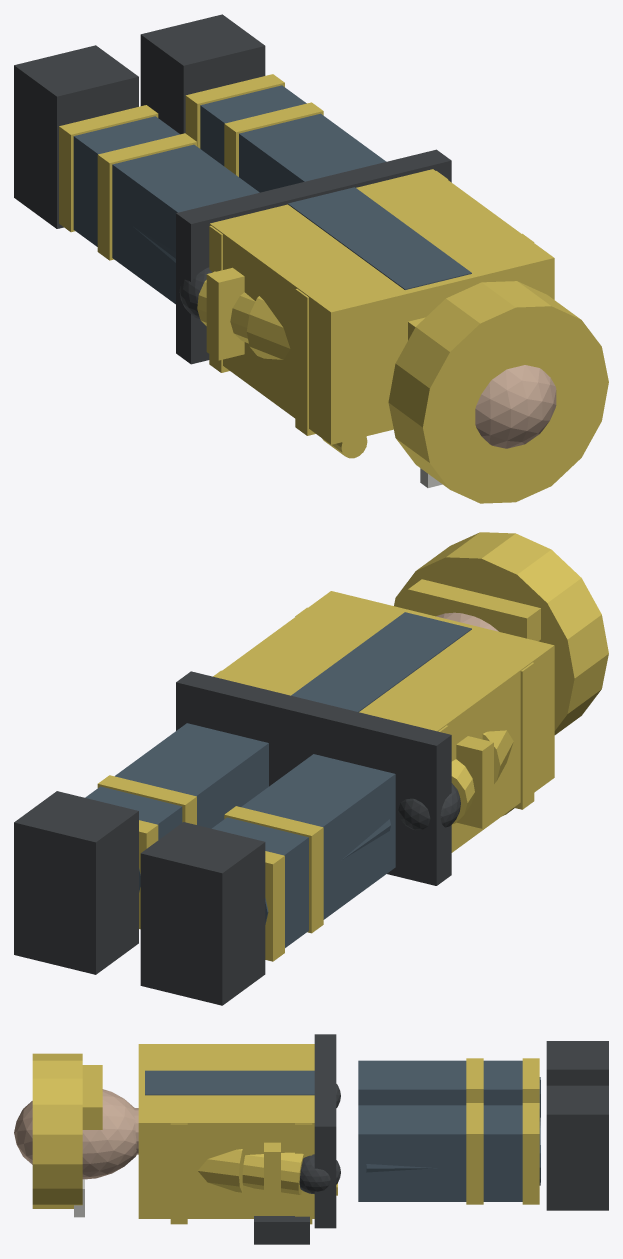
Rendered from Femme_Incendie_SDIS37_V2.glb.
3 renders of one model, top to bottom at view 1: azimuth 30°, elevation 25°; view 2: azimuth 150°, elevation 25°; view 3: azimuth 270°, elevation 25°, orthographic. The views are drawn at different scales.
Parts seen in each view (by area): view 1: 10_Veste_jaune, 14_Casque_F1, 02_Pantalon_gauche, 00_Botte_gauche, 07_Pantalon_droite, 05_Botte_droite, 27_Ceinture, 11_Veste_bleu_centre, 18_Tete, 22_Bande_bras_gauche, 03_Bande_pantalon_gauche, 04_Bande_bas_gauche (+7 smaller); view 2: 10_Veste_jaune, 27_Ceinture, 00_Botte_gauche, 05_Botte_droite, 02_Pantalon_gauche, 14_Casque_F1, 07_Pantalon_droite, 11_Veste_bleu_centre, 16_Protège_nuque, 03_Bande_pantalon_gauche, 22_Bande_bras_gauche, 13_Bande_reflechissante_torse (+5 smaller); view 3: 10_Veste_jaune, 07_Pantalon_droite, 05_Botte_droite, 14_Casque_F1, 02_Pantalon_gauche, 11_Veste_bleu_centre, 18_Tete, 27_Ceinture, 00_Botte_gauche, 08_Bande_pantalon_droite, 09_Bande_bas_droite, 13_Bande_reflechissante_torse (+10 smaller).
Boxes of the visible parts, x1,y1,x2,y2 form: 10_Veste_jaune: (209, 169, 554, 444); 14_Casque_F1: (388, 281, 608, 503); 02_Pantalon_gauche: (73, 116, 259, 304); 00_Botte_gauche: (14, 45, 138, 228); 07_Pantalon_droite: (200, 85, 386, 192); 05_Botte_droite: (140, 14, 265, 134); 27_Ceinture: (176, 149, 451, 364); 11_Veste_bleu_centre: (288, 187, 471, 289); 18_Tete: (475, 365, 556, 448); 22_Bande_bras_gauche: (206, 267, 244, 360); 03_Bande_pantalon_gauche: (97, 133, 196, 260); 04_Bande_bas_gauche: (59, 105, 158, 232); 10_Veste_jaune: (214, 591, 554, 852); 27_Ceinture: (176, 671, 451, 885); 00_Botte_gauche: (140, 822, 265, 1005); 05_Botte_droite: (14, 791, 138, 974); 02_Pantalon_gauche: (212, 754, 395, 947); 14_Casque_F1: (394, 532, 608, 734); 07_Pantalon_droite: (85, 723, 268, 839); 11_Veste_bleu_centre: (291, 612, 471, 712); 16_Protège_nuque: (408, 579, 540, 641); 03_Bande_pantalon_gauche: (224, 806, 323, 933); 22_Bande_bras_gauche: (456, 736, 493, 828); 13_Bande_reflechissante_torse: (295, 607, 534, 809); 10_Veste_jaune: (138, 1044, 314, 1218); 07_Pantalon_droite: (358, 1105, 522, 1201); 05_Botte_droite: (546, 1085, 608, 1210); 14_Casque_F1: (32, 1053, 82, 1208); 02_Pantalon_gauche: (358, 1060, 522, 1105); 11_Veste_bleu_centre: (145, 1070, 314, 1095); 18_Tete: (14, 1089, 136, 1179); 27_Ceinture: (314, 1034, 336, 1228); 00_Botte_gauche: (546, 1041, 608, 1085); 08_Bande_pantalon_droite: (466, 1103, 483, 1204); 09_Bande_bas_droite: (522, 1103, 539, 1204); 13_Bande_reflechissante_torse: (170, 1123, 187, 1224).
Bounding box in the file's own units: 0.74 × 0.5 × 1.91.
